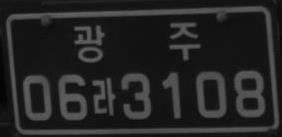0: (195, 70, 228, 118), (22, 74, 52, 120)
1: (159, 71, 188, 118)
3: (121, 72, 151, 120)
6: (57, 74, 88, 121)
8: (232, 70, 265, 117)
광주_D: (73, 22, 200, 63)
라: (91, 77, 116, 116)
